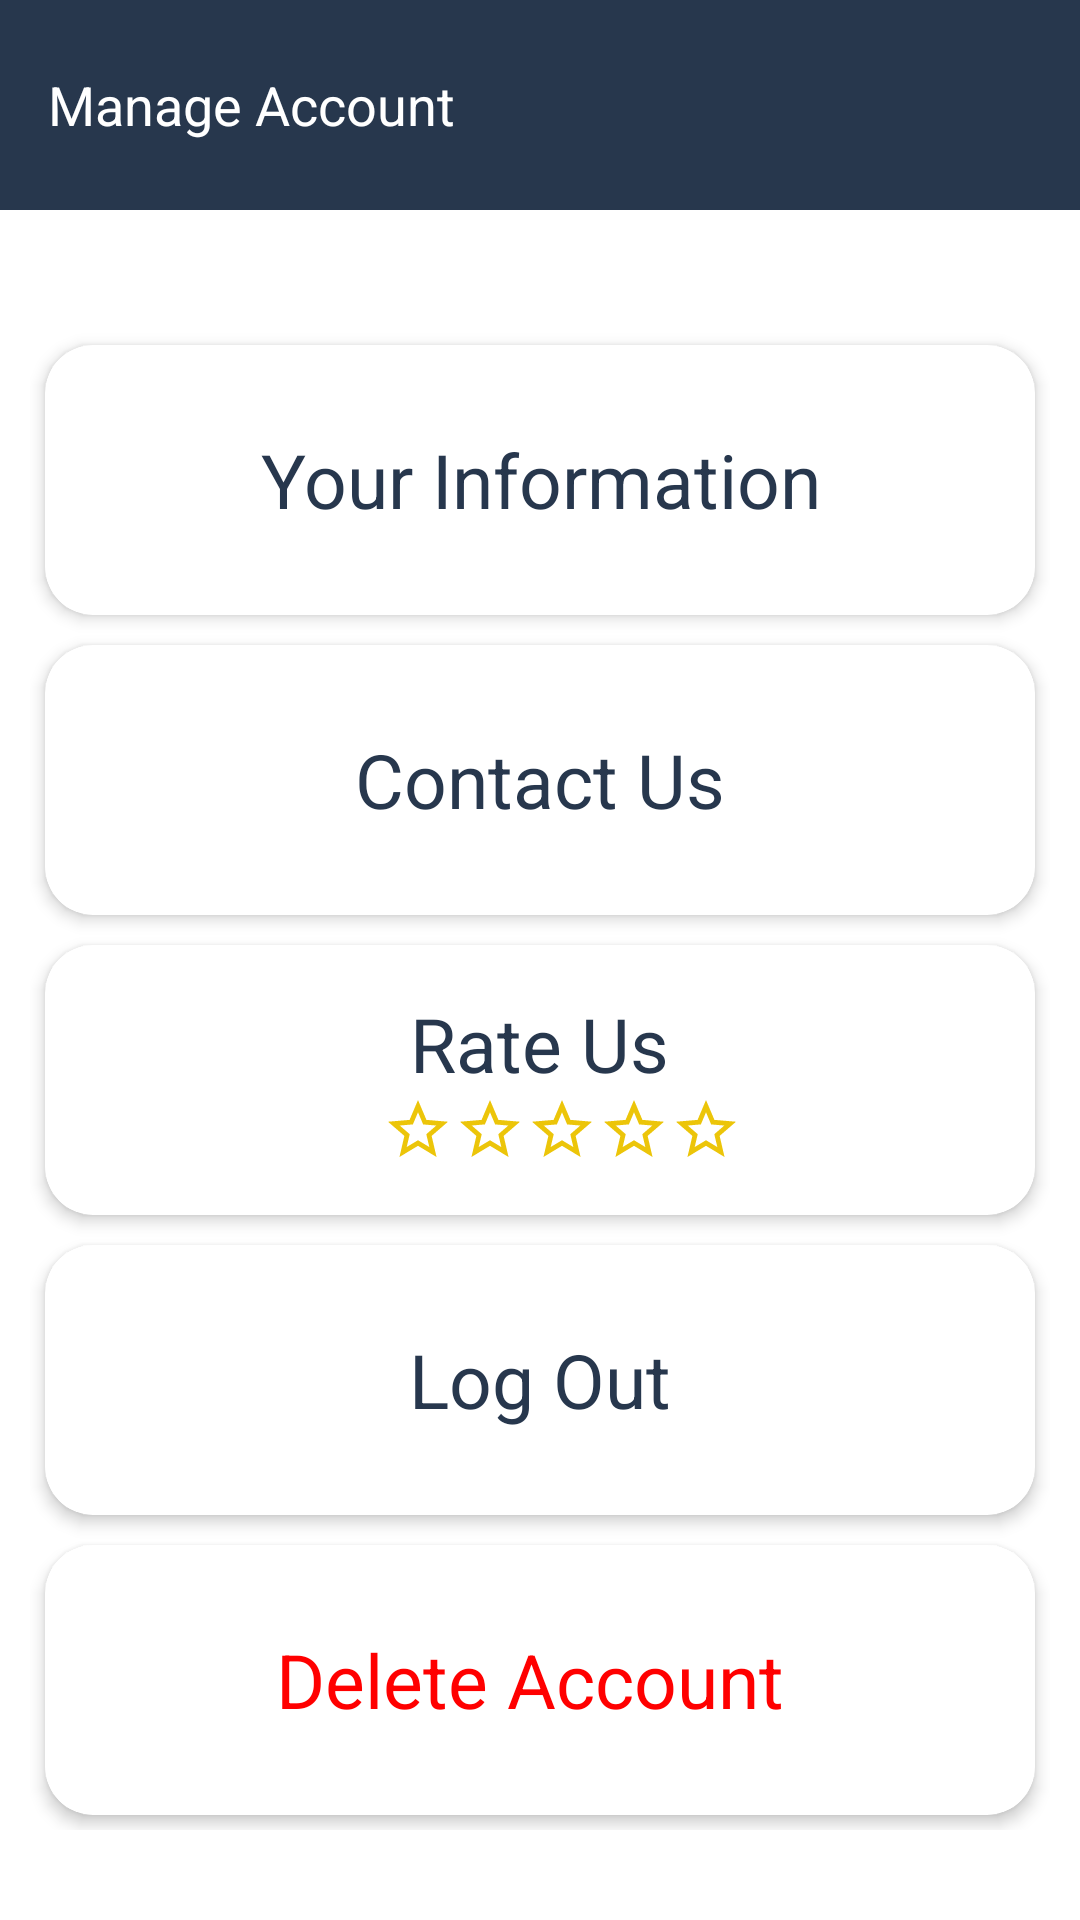

Screen size 1080 × 1920. Icon name, then its box in pixels as bbox=[x1, y1, x2, y2]:
star border: bbox=[388, 1100, 448, 1157], bbox=[460, 1100, 520, 1157], bbox=[532, 1100, 592, 1157], bbox=[604, 1100, 664, 1157], bbox=[676, 1100, 736, 1157]
